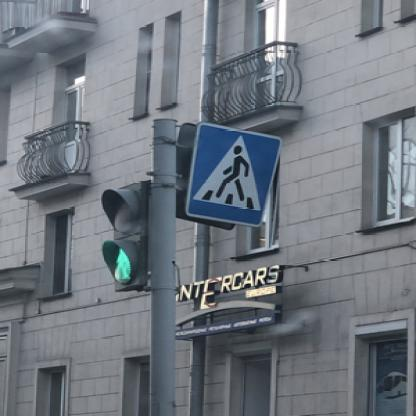crosswalk: (184, 121, 283, 226)
trafficlight: (100, 178, 151, 290)
